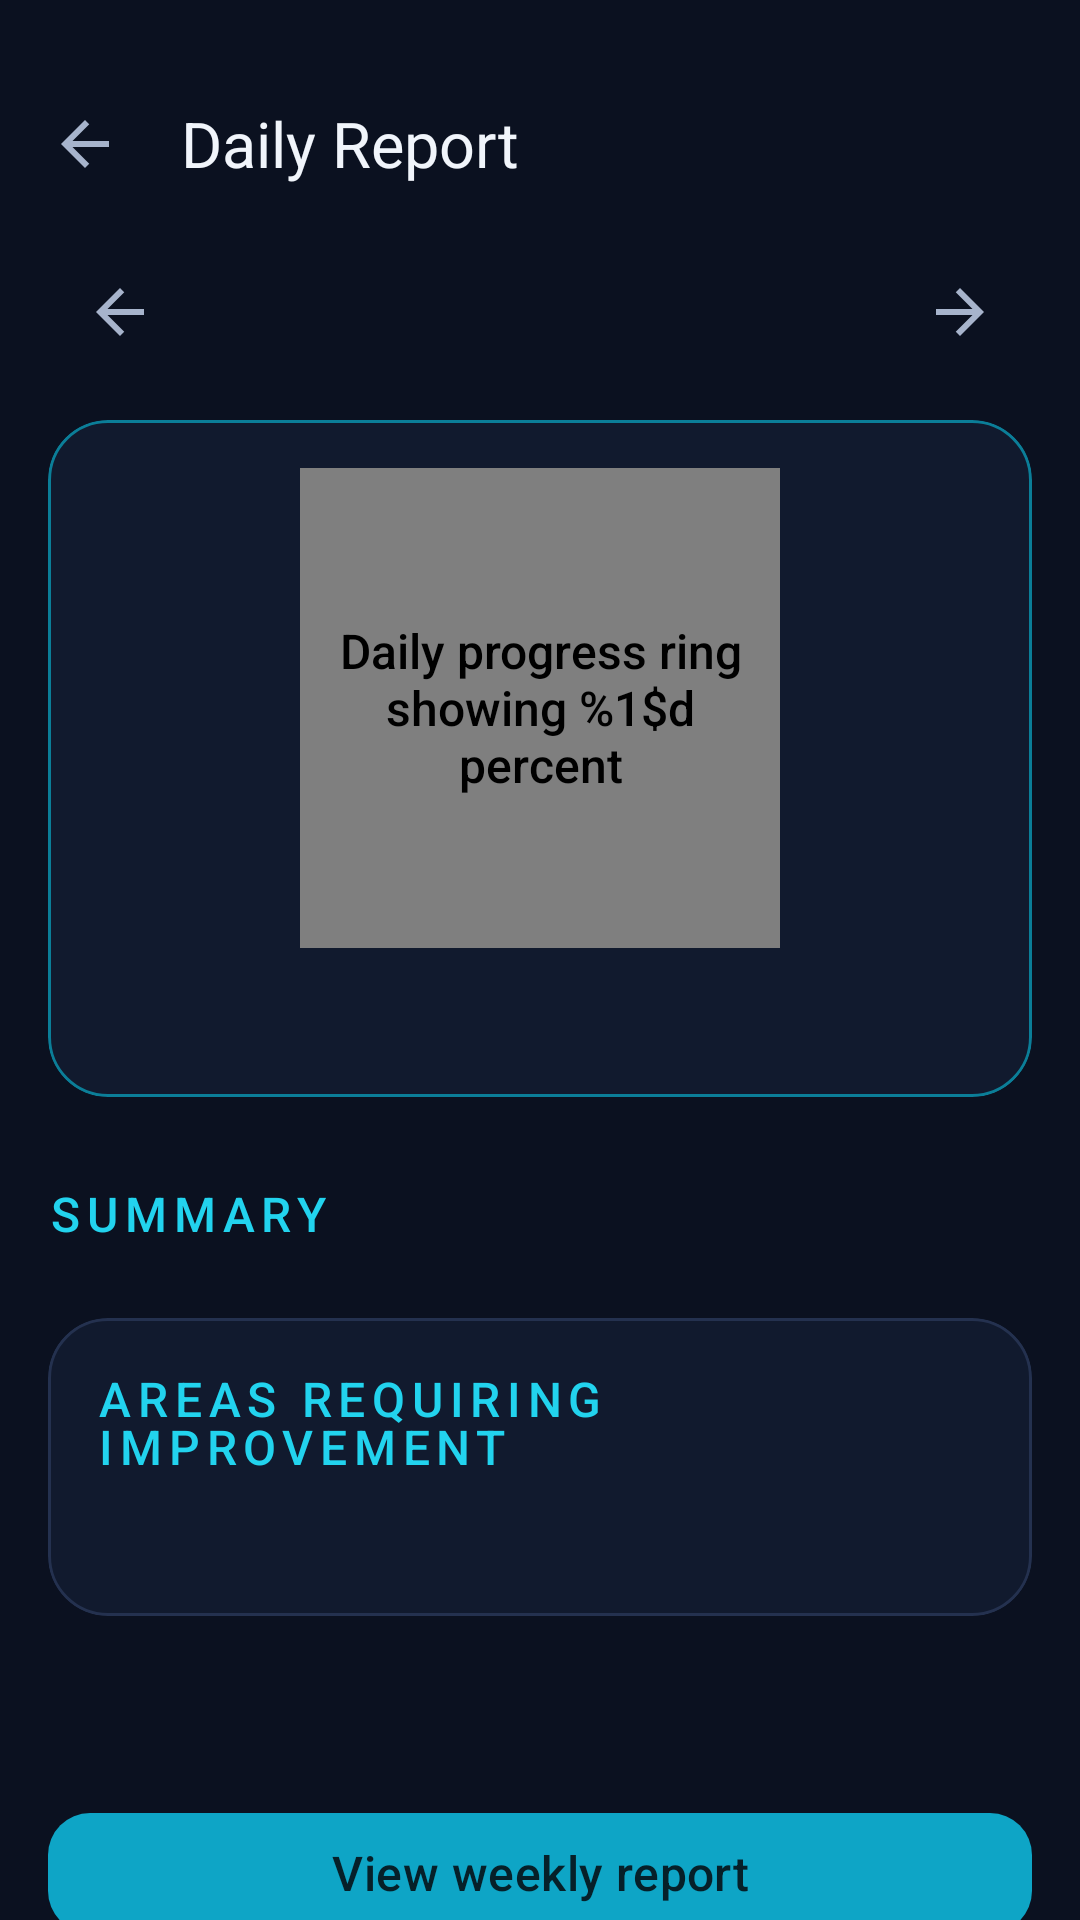

Icon bounding boxes for this 1080 x 1920 phone screenshot, format box=[x1, y1, x2, y2]:
Previous day: box=[96, 288, 144, 336]
